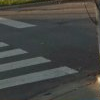crosswalk: (0, 41, 79, 89)
